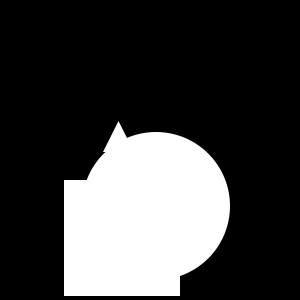circle: (64, 180, 180, 296), (93, 183, 110, 200)
rectangle: (82, 132, 230, 280)
triangle: (103, 121, 134, 152)
